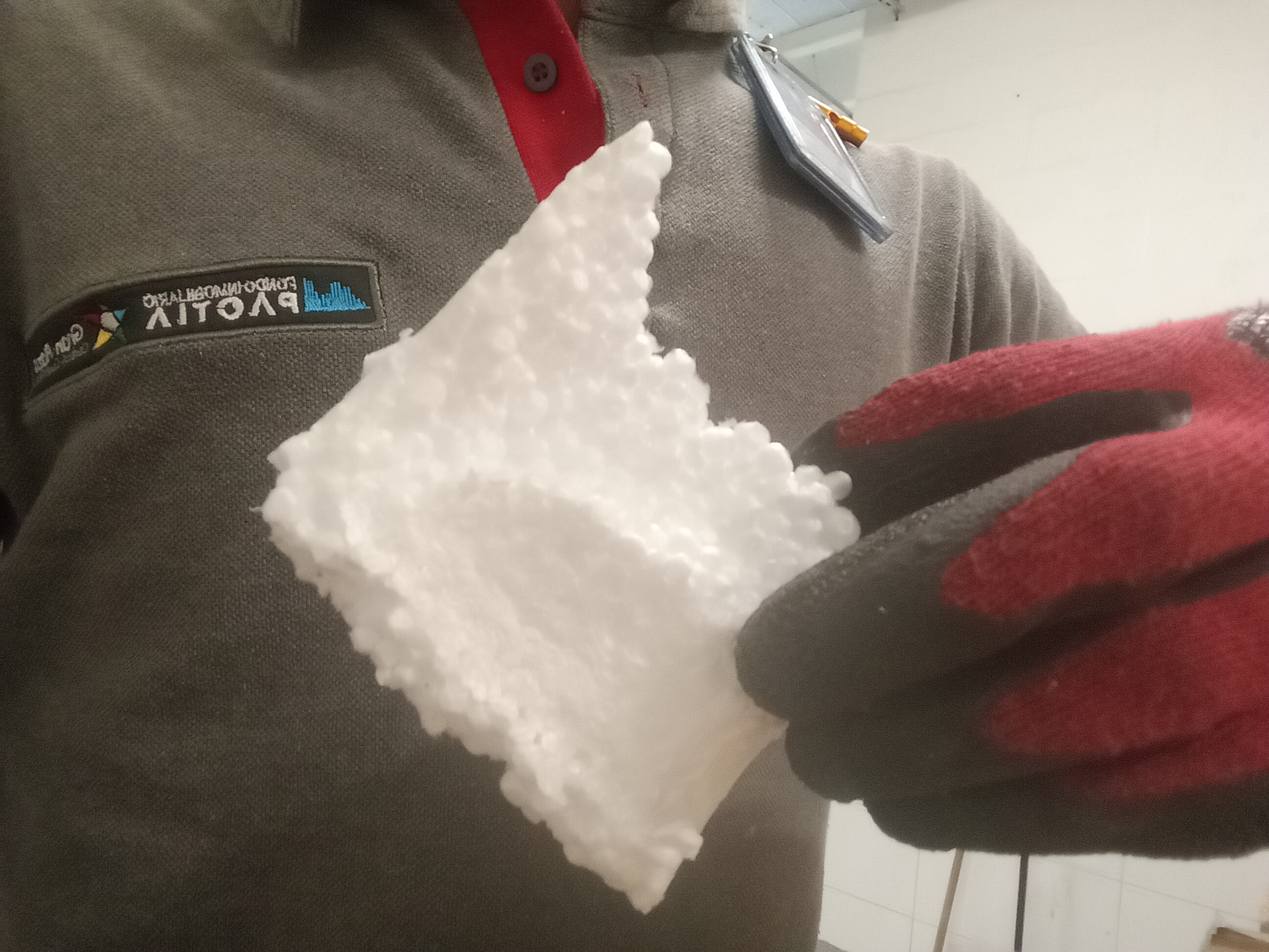Ordinario: (261, 122, 863, 912)
